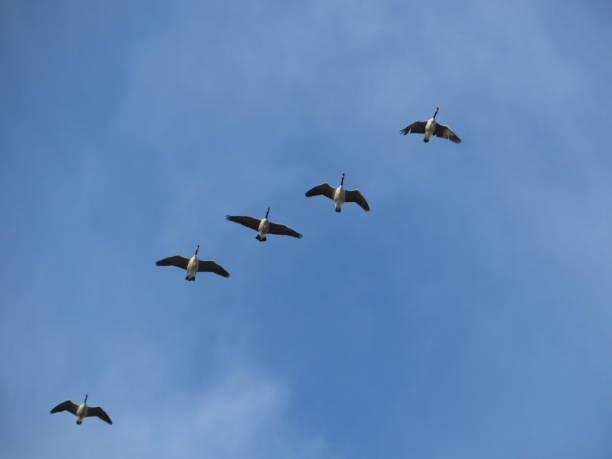Canadian-Goose: (225, 203, 305, 249), (305, 166, 373, 219), (151, 242, 231, 284), (399, 102, 463, 149), (46, 390, 115, 430)
